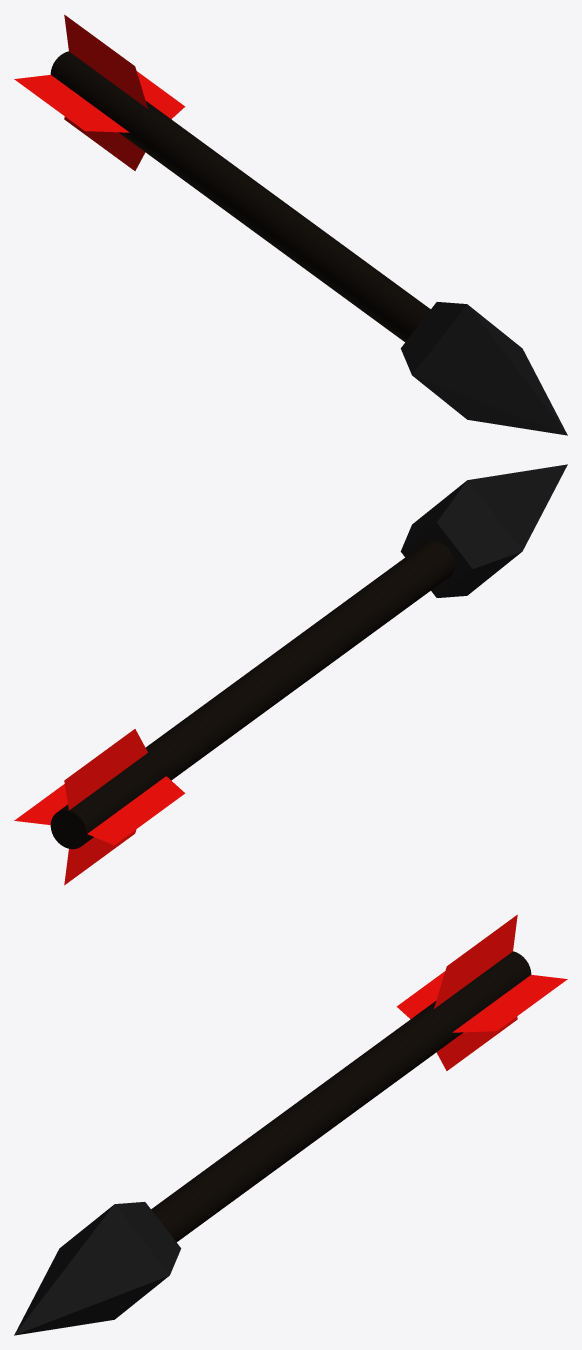
The model's file is Archer_Arrow_Projectile.fbx.
3 renders of one model, top to bottom at view 1: azimuth 30°, elevation 25°; view 2: azimuth 150°, elevation 25°; view 3: azimuth 330°, elevation 25°, orthographic.
Parts seen in each view (by area): view 1: node_id8 (×3); view 2: node_id8 (×3); view 3: node_id8 (×3).
Part boxes in pixels (left/top/right/bottom): node_id8 (×3): left=14, top=14, right=567, bottom=435; node_id8 (×3): left=14, top=464, right=567, bottom=885; node_id8 (×3): left=14, top=914, right=567, bottom=1335.
Size of the model in its own units: 0.512 by 0.512 by 4.04.
